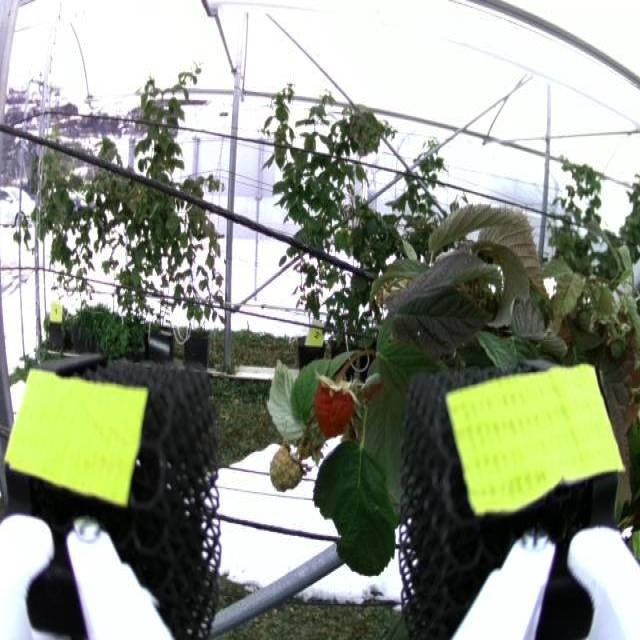Riped berries: (314, 370, 357, 436)
